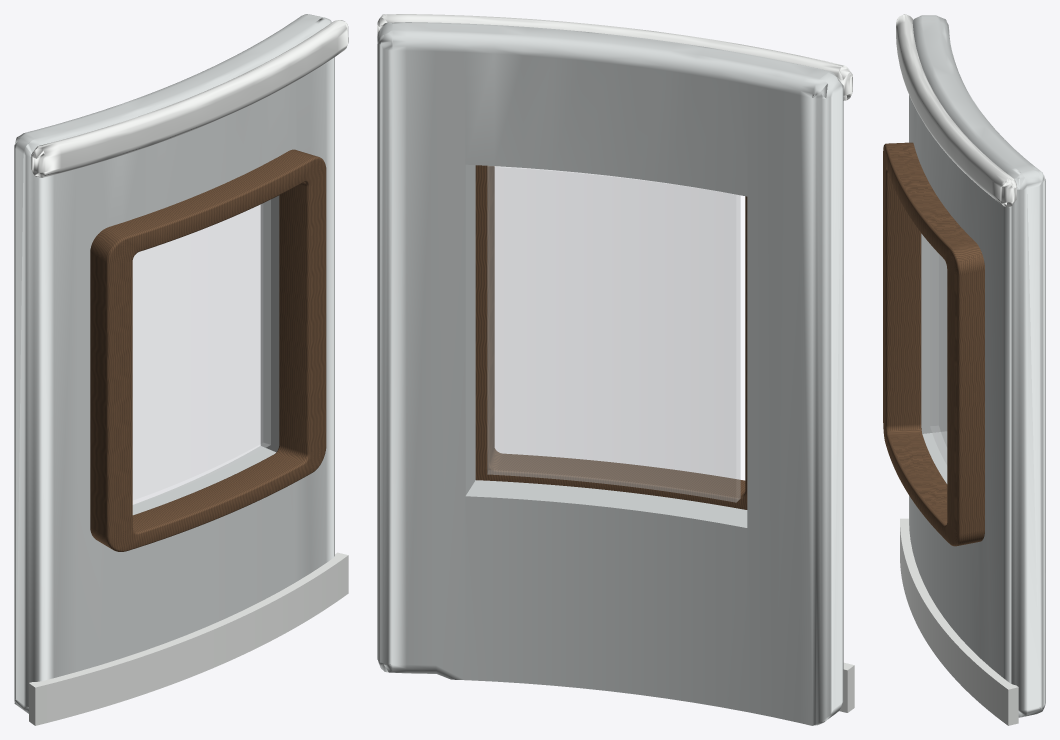
The model's file is ArcWindow_R4_A30.glb.
The picture shows the model from 3 angles, left to right: view 1: azimuth 30°, elevation 25°; view 2: azimuth 150°, elevation 25°; view 3: azimuth 270°, elevation 25°; orthographic projection. The views are drawn at different scales.
Parts seen in each view (by area): view 1: PBK_substrate.001, PBK_Continuous_Frame_Modern_Window.003, PBK_Arc_PBK_glass.002, PBK_Arc_PBK_base_trim.007, PBK_floor_band.001; view 2: PBK_substrate.001, PBK_Arc_PBK_glass.002, PBK_Continuous_Frame_Modern_Window.003, PBK_floor_band.001; view 3: PBK_substrate.001, PBK_Continuous_Frame_Modern_Window.003, PBK_Arc_PBK_base_trim.007, PBK_floor_band.001, PBK_Arc_PBK_glass.002.
Part boxes in pixels (x1,y1,x2,y2): PBK_substrate.001: (14,14,334,713); PBK_Continuous_Frame_Modern_Window.003: (90,149,326,551); PBK_Arc_PBK_glass.002: (133,199,270,505); PBK_Arc_PBK_base_trim.007: (29,552,348,725); PBK_floor_band.001: (31,20,348,177); PBK_substrate.001: (377,22,843,725); PBK_Arc_PBK_glass.002: (487,166,740,502); PBK_Continuous_Frame_Modern_Window.003: (475,165,747,509); PBK_floor_band.001: (377,14,852,100); PBK_substrate.001: (909,15,1045,717); PBK_Continuous_Frame_Modern_Window.003: (883,142,984,546); PBK_Arc_PBK_base_trim.007: (900,518,1018,725); PBK_floor_band.001: (896,14,1016,207); PBK_Arc_PBK_glass.002: (930,244,946,464).
Size of the model in its own units: 2.02 by 3 by 0.8145.
Materials: 4 (1 with a texture image).
